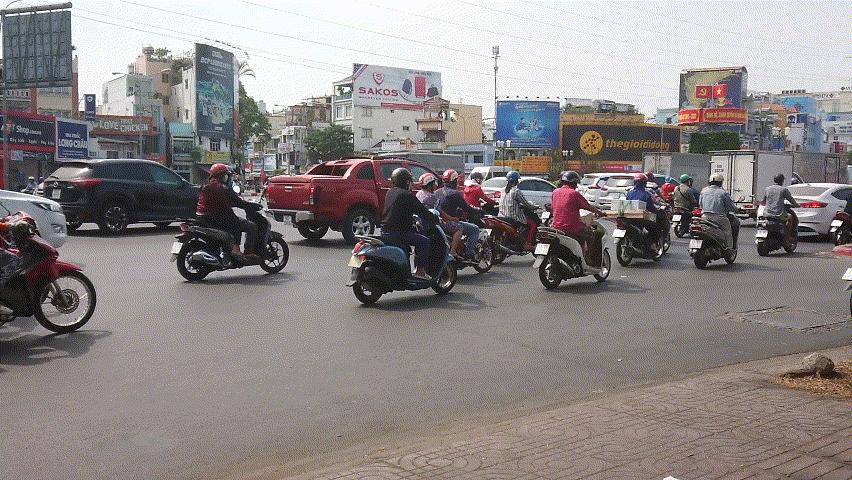driver: (345, 167, 457, 305), (170, 162, 289, 281), (533, 171, 613, 289), (416, 170, 495, 273), (480, 171, 544, 265), (686, 172, 746, 268), (613, 173, 671, 267), (753, 173, 803, 260), (671, 174, 699, 238)
helmet: (390, 168, 414, 190), (417, 172, 439, 195), (209, 163, 231, 183), (561, 171, 582, 191), (442, 169, 459, 190), (506, 170, 521, 186), (708, 172, 724, 187), (633, 173, 647, 190), (470, 171, 485, 185), (679, 174, 691, 186), (774, 173, 785, 186)
